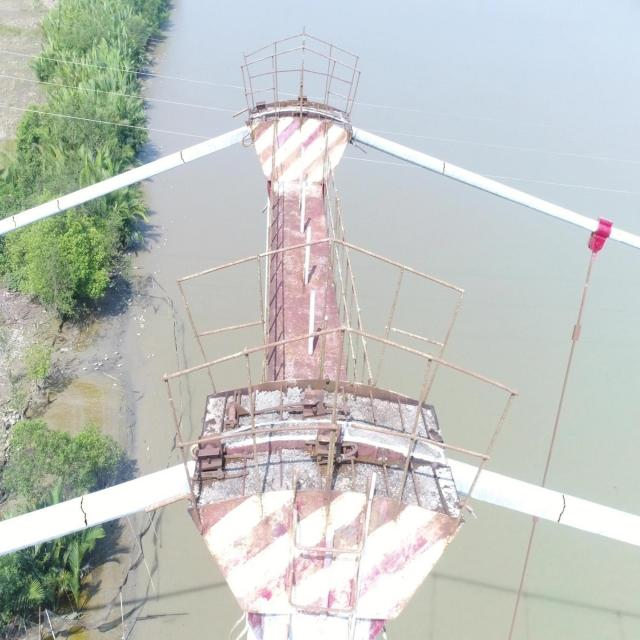crack: (78, 497, 88, 527), (558, 494, 567, 523), (178, 152, 186, 163), (56, 200, 62, 211), (441, 162, 446, 175), (12, 215, 16, 229)
